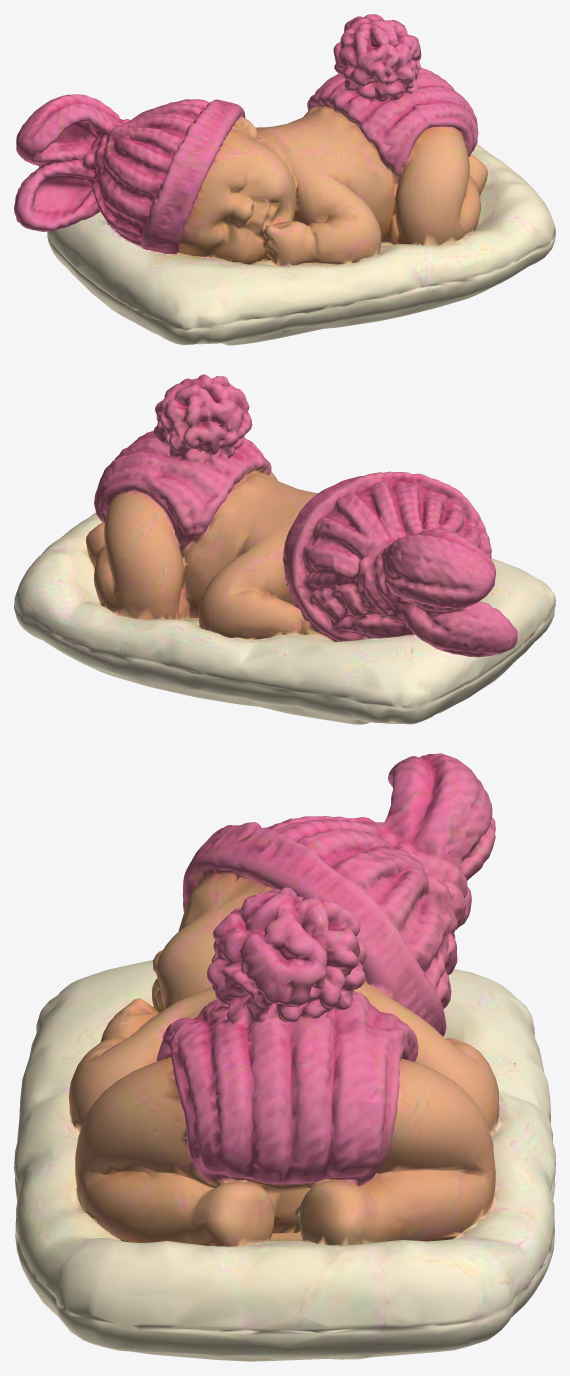
3 renders of one model, top to bottom at view 1: azimuth 30°, elevation 25°; view 2: azimuth 150°, elevation 25°; view 3: azimuth 270°, elevation 25°, orthographic. The views are drawn at different scales.
Bounding box in the file's own units: 1.9 × 0.9616 × 1.18.
Materials: 1 (1 with a texture image).
